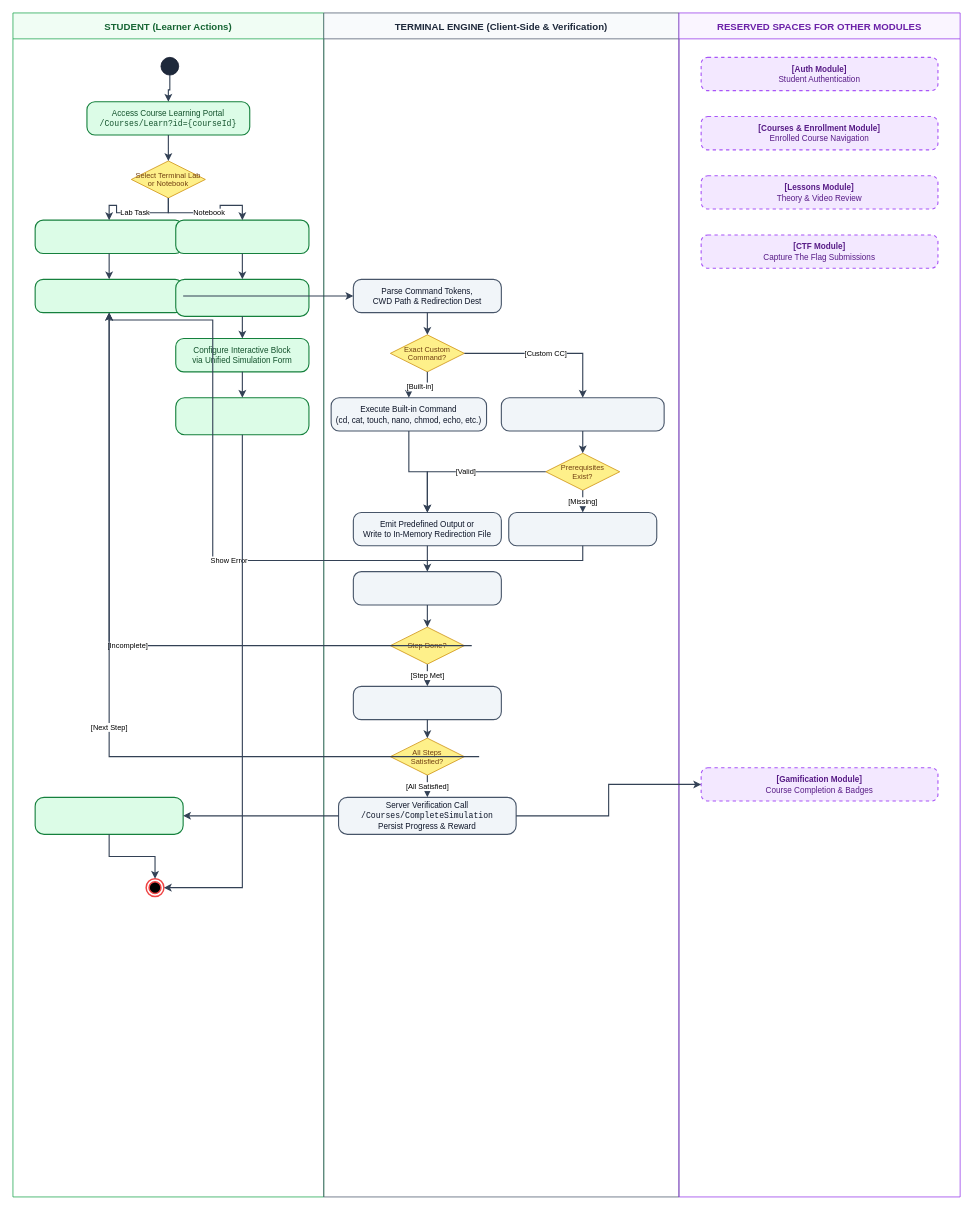
The diagram is 973 pixels wide and 1210 high, and some of its shapes have lost their labels. The shapes that lost their labels are listed below. From the top down, each one's centre as x and y in pixels, then its label:
the point at 108,236: Launch Terminal Lab View Objectives & Sequential Hints
the point at 242,236: Open Terminal Notebooks /Notebooks (Create or Edit)
the point at 108,295: Input Linux Shell Command (Built-in, Custom Command, or >)
the point at 242,297: Compose Markdown Notes, Interactive CLI, & Static Examples
the point at 242,416: Export Standalone Offline HTML (Self-contained with embedded CSS/SVGs)
the point at 582,414: Validate Required Files & Dirs relative to active simulated CWD
the point at 582,529: Output Simulated Linux Error (No such file or directory / Is a dir)
the point at 427,588: Evaluate Step Objective (Match command & directory constraint)
the point at 427,702: Unlock Next Sequential Hint & Update Checklist Progress
the point at 108,815: Display Success Notification & Unlock Course Completion
